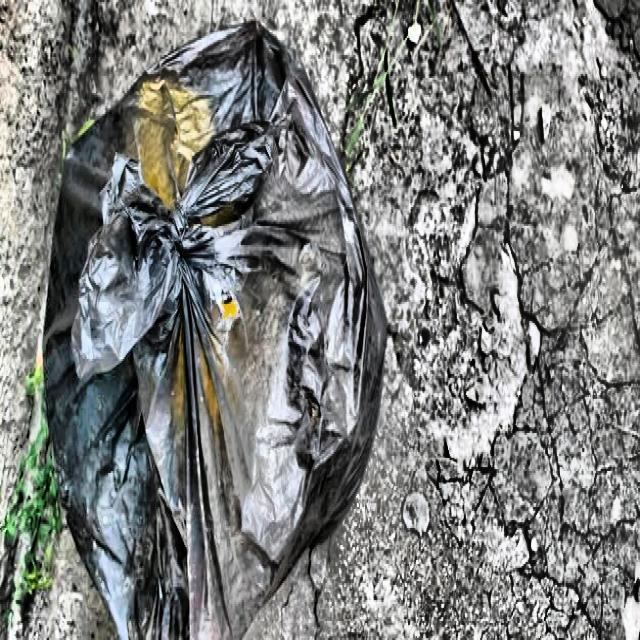Trashbag: (40, 4, 399, 640)
